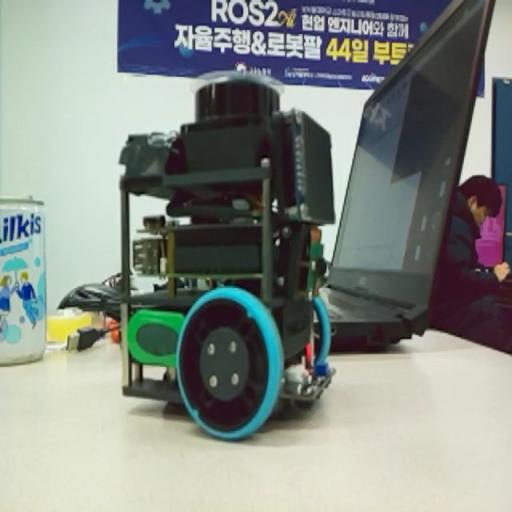pinky_63: (116, 77, 340, 435)
